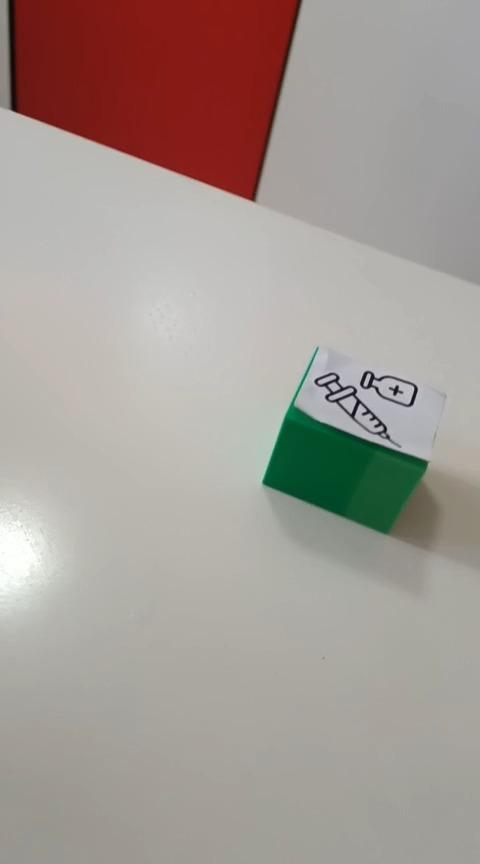antiseptic cream: (260, 343, 447, 535)
